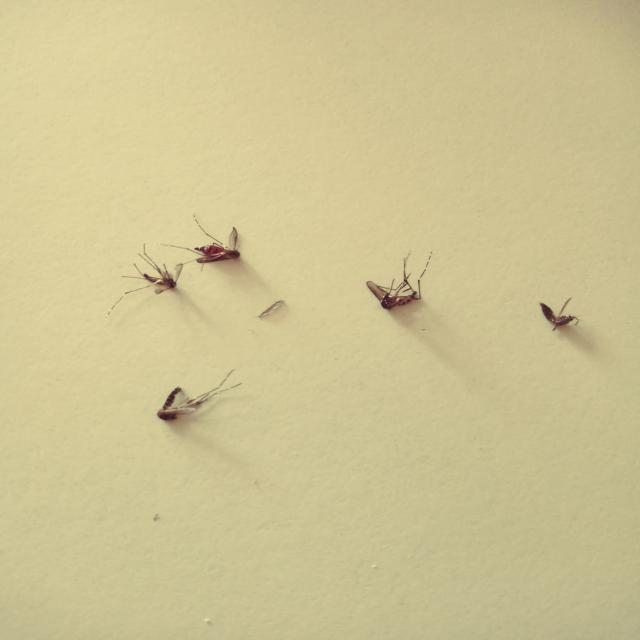albopictus: (108, 206, 245, 306)
